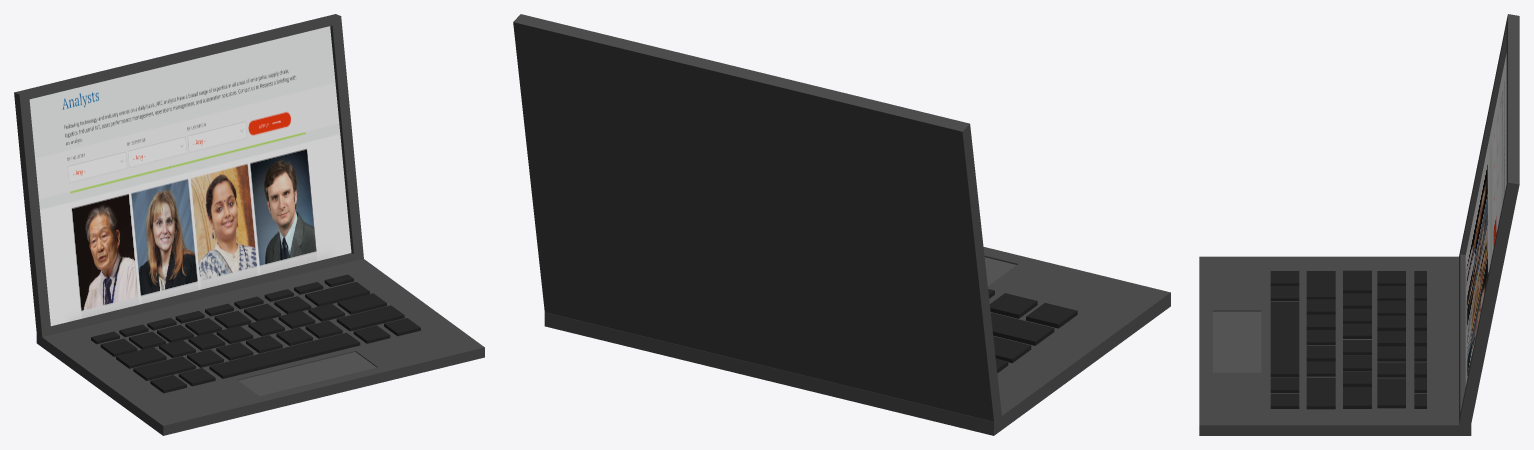
Rendered from arc-macbook.glb.
The picture shows the model from 3 angles, left to right: view 1: azimuth 30°, elevation 25°; view 2: azimuth 150°, elevation 25°; view 3: azimuth 270°, elevation 25°; orthographic projection. The views are drawn at different scales.
Parts seen in each view (by area): view 1: Cube.001, Cube, Cube.042, Cube.037, Cube.019, Cube.029, Cube.020, Cube.028; view 2: Cube.001, Cube, Cube.029, Cube.038, Cube.039, Cube.020; view 3: Cube, Cube.001, Cube.042, Cube.037, Cube.019, Cube.029, Cube.020, Cube.028, Cube.032, Cube.036, Cube.033, Cube.034 (+18 smaller).
Boxes of the visible parts, <box> form: Cube.001: <box>14,14,363,337</box>; Cube: <box>36,259,484,435</box>; Cube.042: <box>209,332,360,378</box>; Cube.037: <box>336,305,404,331</box>; Cube.019: <box>305,282,369,306</box>; Cube.029: <box>133,356,195,380</box>; Cube.020: <box>116,347,166,368</box>; Cube.028: <box>337,293,386,314</box>; Cube.001: <box>513,14,1001,423</box>; Cube: <box>544,247,1170,435</box>; Cube.029: <box>990,312,1054,345</box>; Cube.038: <box>1026,303,1077,328</box>; Cube.039: <box>990,293,1037,318</box>; Cube.020: <box>993,336,1031,363</box>; Cube: <box>1199,256,1471,435</box>; Cube.001: <box>1459,14,1519,426</box>; Cube.042: <box>1270,302,1299,377</box>; Cube.037: <box>1306,377,1335,409</box>; Cube.019: <box>1377,378,1405,408</box>; Cube.029: <box>1306,271,1335,299</box>; Cube.020: <box>1343,270,1371,293</box>; Cube.028: <box>1343,387,1371,408</box>; Cube.032: <box>1306,299,1335,314</box>; Cube.036: <box>1306,361,1335,376</box>; Cube.033: <box>1306,314,1335,329</box>; Cube.034: <box>1306,330,1335,345</box>.
Size of the model in its own units: 5.33 by 3.74 by 4.28.
4 materials, 1 textured.
